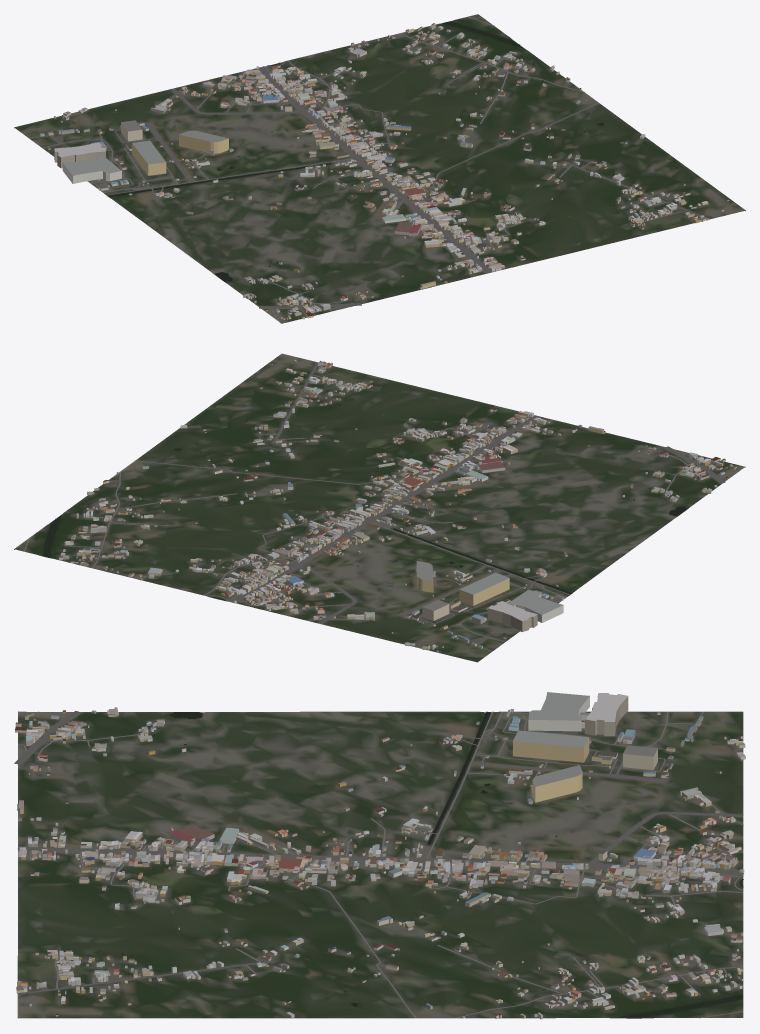
3 renders of one model, top to bottom at view 1: azimuth 30°, elevation 25°; view 2: azimuth 150°, elevation 25°; view 3: azimuth 270°, elevation 25°, orthographic. The views are drawn at different scales.
Parts seen in each view (by area): view 1: ground, buildings, roads, water; view 2: ground, buildings, roads, water; view 3: ground, buildings, roads, water.
Boxes of the visible parts, x1=… form: ground: x1=14, y1=14, x2=745, y2=323; buildings: x1=39, y1=23, x2=729, y2=319; roads: x1=29, y1=16, x2=709, y2=323; water: x1=108, y1=21, x2=611, y2=281; ground: x1=14, y1=353, x2=745, y2=662; buildings: x1=59, y1=360, x2=736, y2=652; roads: x1=24, y1=362, x2=745, y2=651; water: x1=42, y1=405, x2=687, y2=600; ground: x1=17, y1=711, x2=743, y2=1018; buildings: x1=15, y1=692, x2=745, y2=1019; roads: x1=14, y1=711, x2=743, y2=1018; water: x1=121, y1=711, x2=743, y2=1018.
Bounding box in the file's own units: 1446 × 38.01 × 1413.
